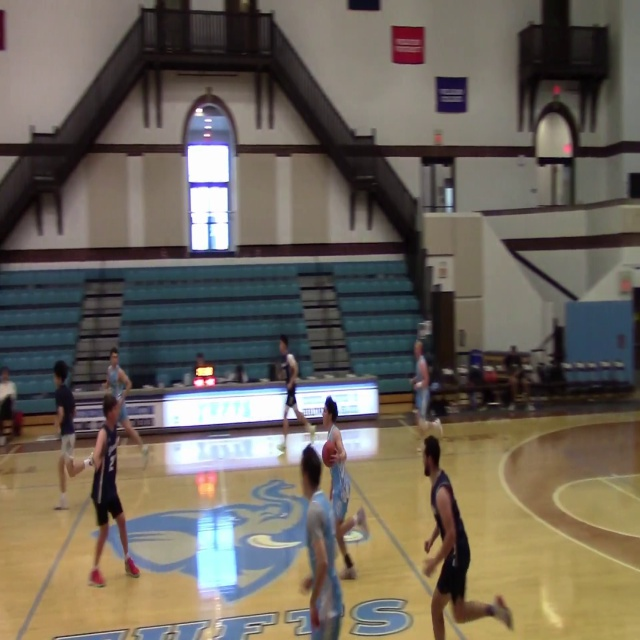Basketball: (321, 440, 339, 468)
